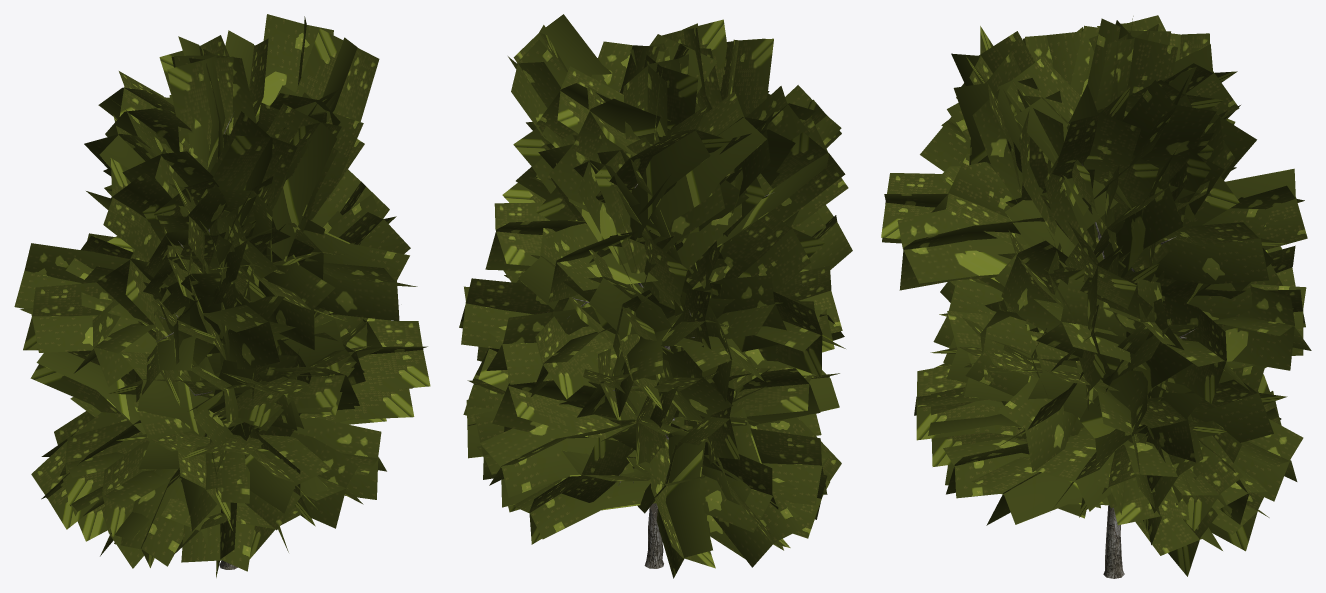
The model's file is SM_Tree_02.FBX.
The picture shows the model from 3 angles, left to right: view 1: azimuth 30°, elevation 25°; view 2: azimuth 150°, elevation 25°; view 3: azimuth 270°, elevation 25°; orthographic projection. The views are drawn at different scales.
Visible parts, largest first — view 1: SM_Tree_02_LOD0; view 2: SM_Tree_02_LOD0; view 3: SM_Tree_02_LOD0.
Boxes of the visible parts, x1,y1,x2,y2 form: SM_Tree_02_LOD0: [14, 14, 430, 577]; SM_Tree_02_LOD0: [459, 14, 852, 578]; SM_Tree_02_LOD0: [881, 15, 1311, 578].
Size of what is drawn, in the model's own units: 1929 by 1883 by 2623.
4 materials, 4 textured.
